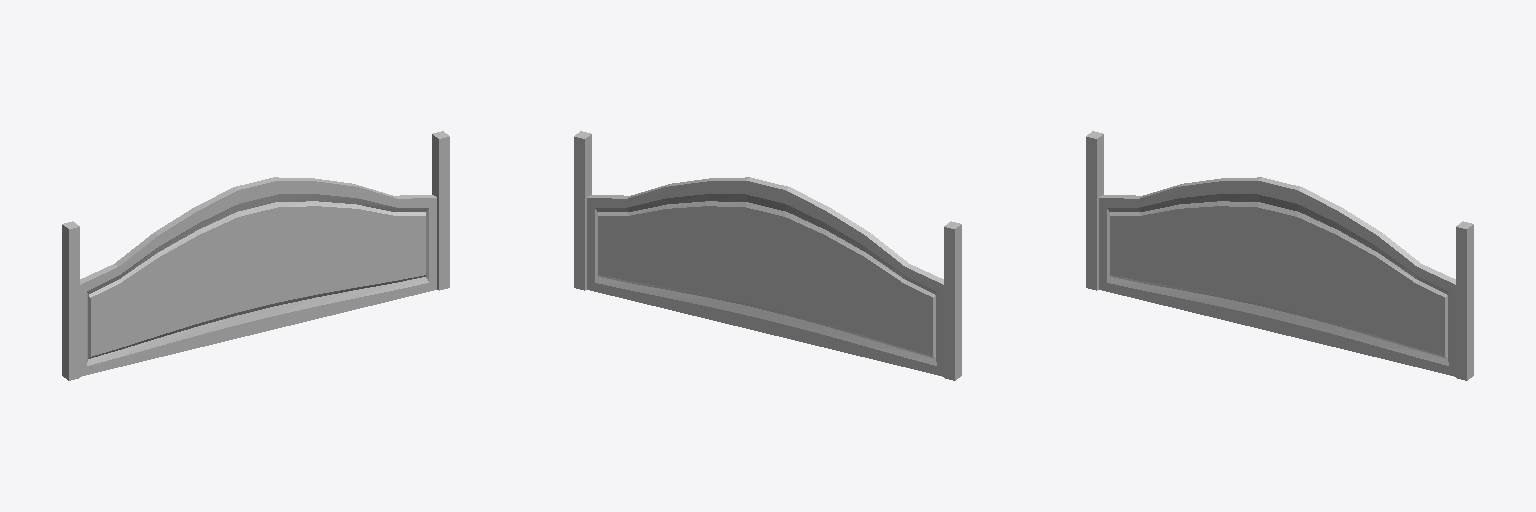
Rendered from headboard_3.obj.
The picture shows the model from 3 angles: view 1: azimuth 30°, elevation 25°; view 2: azimuth 150°, elevation 25°; view 3: azimuth 330°, elevation 25°; orthographic projection.
Bounding box in the file's own units: 21.4 × 8.13 × 0.7153.